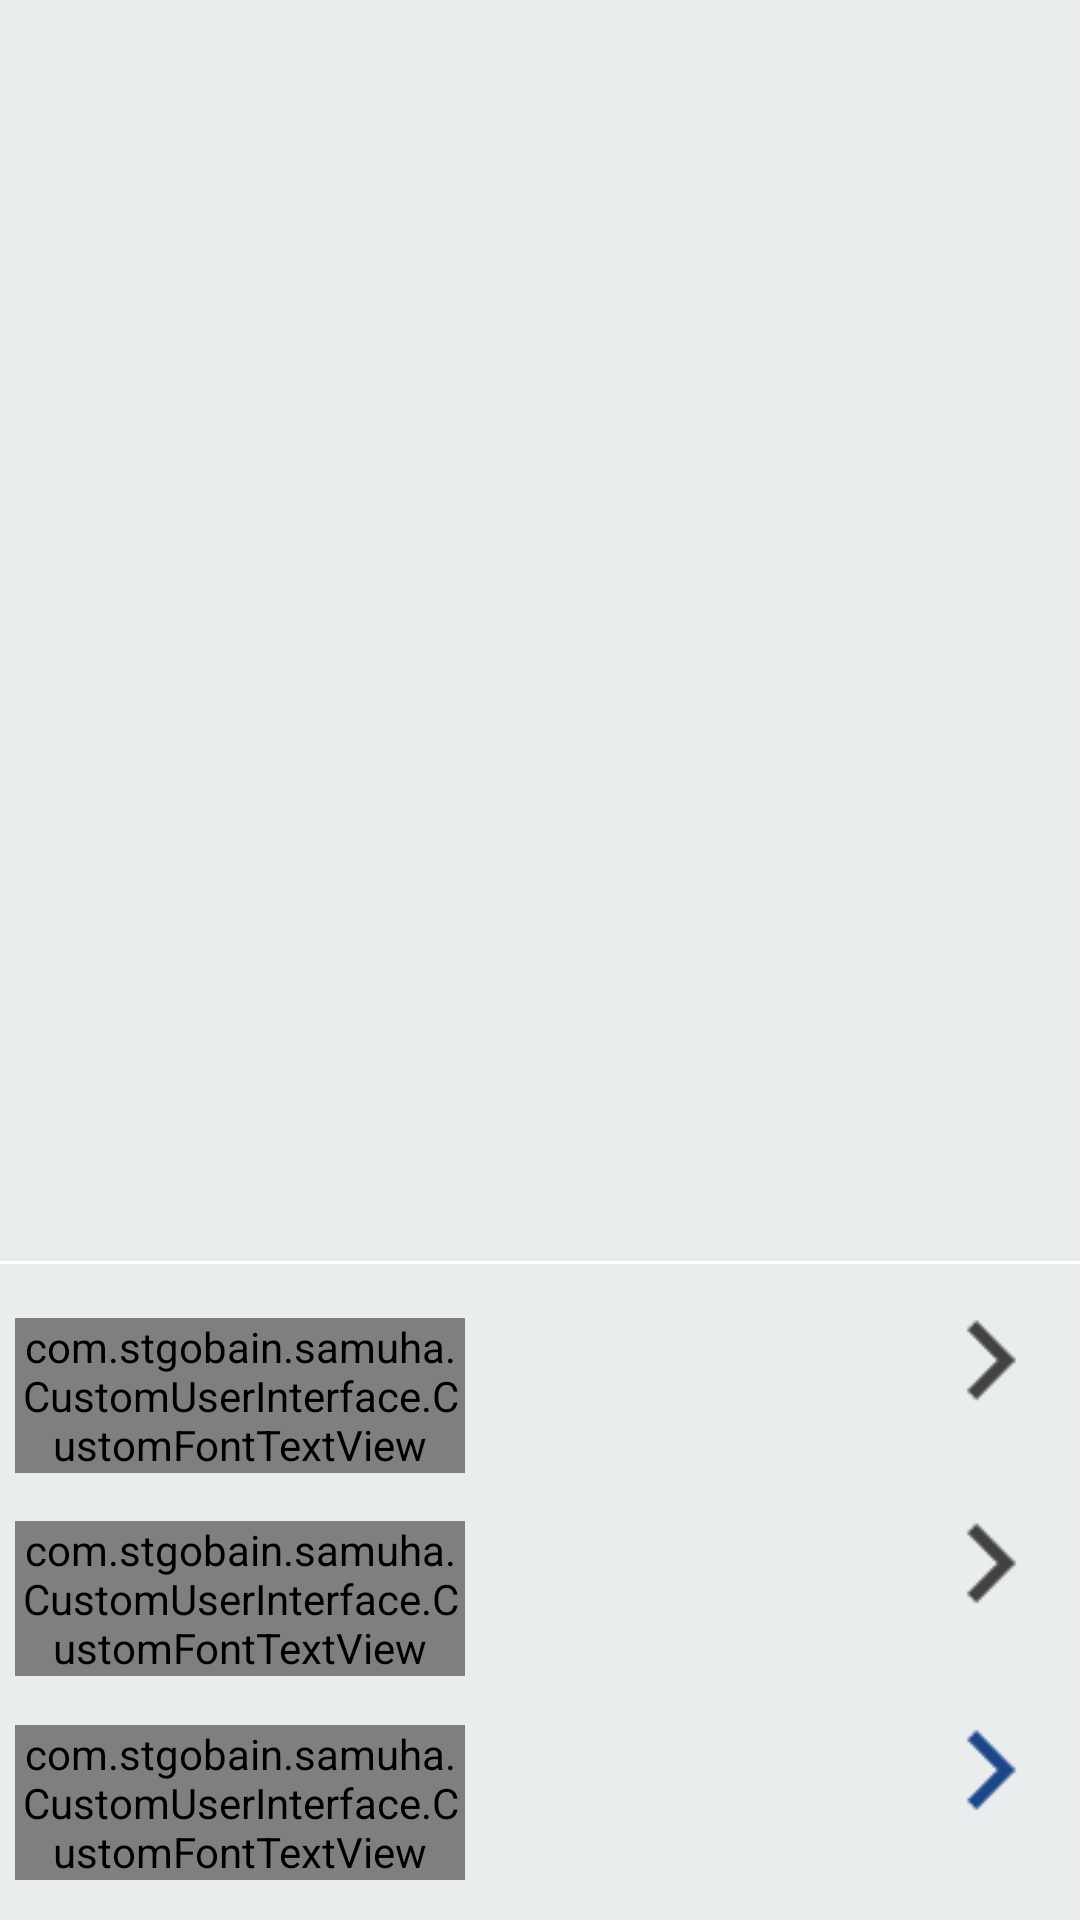

Locate icon controls on the screen. Image size 1080 x 1920, boxes as (x1, y1, x2, y2).
arrow right: (967, 1320, 1016, 1400), (967, 1523, 1016, 1603)
